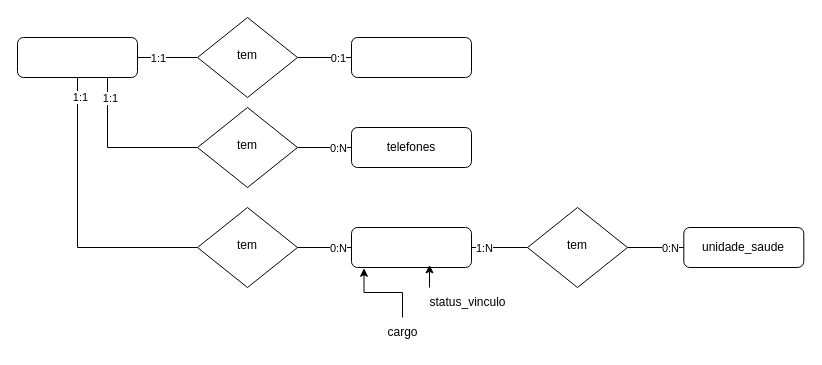
The diagram is 822 pixels wide and 365 high, and some of its shapes have lost their labels. Here are the shapes that lost their labels. From the top down, the box of each, then its label:
(16, 36, 138, 78): users
(350, 36, 472, 78): endreços
(350, 226, 472, 268): profissional
